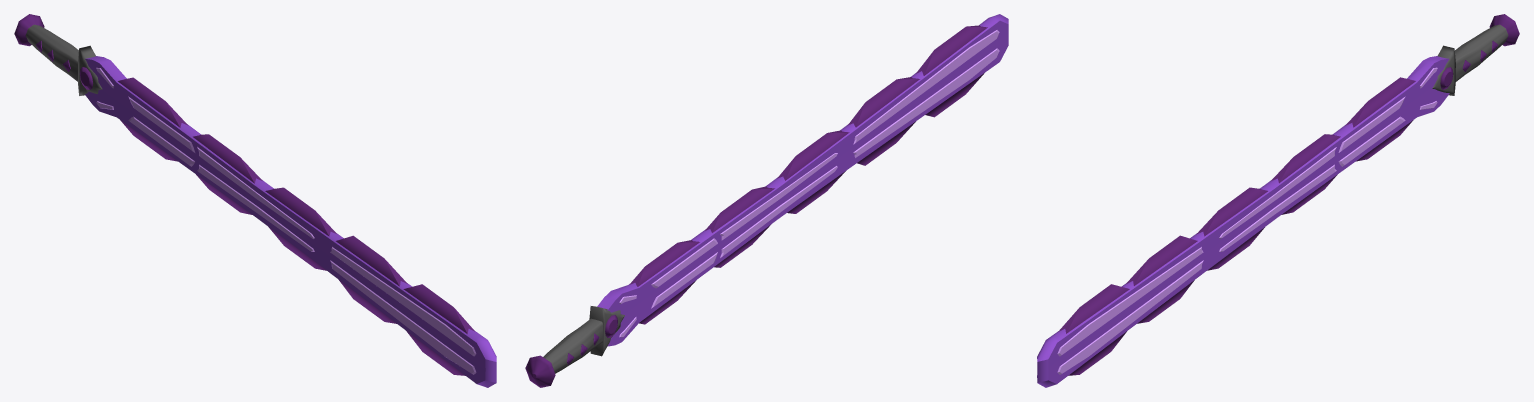
Rendered from Amethyst_Sword_Boss.fbx.
3 views of the same model, side by side, from view 1: azimuth 30°, elevation 25°; view 2: azimuth 150°, elevation 25°; view 3: azimuth 330°, elevation 25° (orthographic).
Parts seen in each view (by area): view 1: AmethystSword_GEO; view 2: AmethystSword_GEO; view 3: AmethystSword_GEO.
Boxes of the visible parts, <box> form: AmethystSword_GEO: <box>14,14,496,387</box>; AmethystSword_GEO: <box>525,14,1008,387</box>; AmethystSword_GEO: <box>1037,14,1519,387</box>.
Size of the model in its own units: 5.87 by 12.54 by 159.
